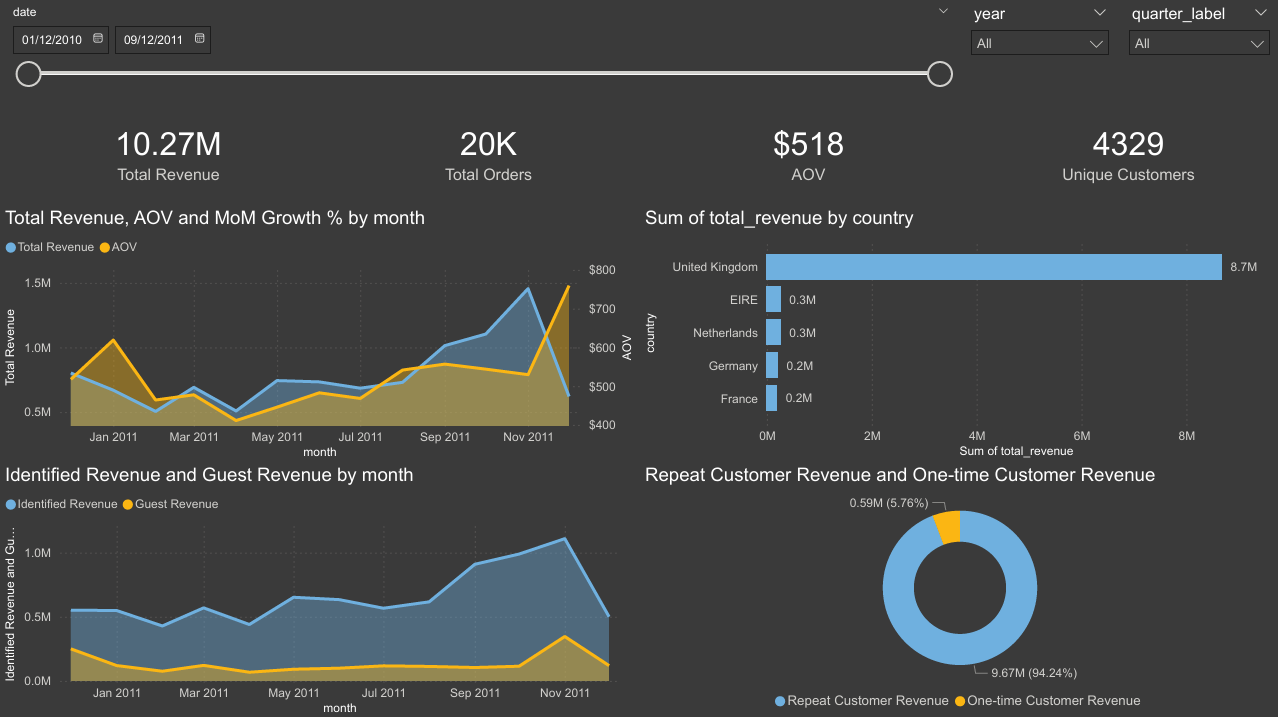

The page's visual inventory and layout, read from the dashboard file:
{"tool":"powerbi","page":{"name":"Executive Overview","canvas":[1280,720],"ordinal":0},"visuals":[{"type":"slicer","fields":{"Values":["online_retail dim_date.date"]},"box":[0,0,1008.6,113.8],"z":0},{"type":"slicer","fields":{"Values":["online_retail dim_date.quarter"]},"box":[1008.6,0,137.1,113.8],"z":1000},{"type":"slicer","fields":{"Values":["online_retail dim_date.year"]},"box":[1145.8,0,134.2,113.8],"z":2000},{"type":"lineChart","fields":{"Category":["online_retail dim_date.year_month"],"Y":["online_retail vw_dim_product.Total Revenue"],"Y2":["online_retail vw_dim_product.AOV"]},"box":[0,210.1,640,254.8],"z":3000},{"type":"clusteredBarChart","fields":{"Category":["online_retail vw_dim_geography.country"],"Y":["Sum(online_retail vw_fact_orders.revenue)"]},"box":[640,210.1,640,254.8],"z":4000},{"type":"lineChart","title":"Total Revenue by Month for identified and guest","fields":{"Category":["online_retail dim_date.year_month.Variation.Date Hierarchy.Month"],"Series":["online_retail vw_dim_customer.is_guest"],"Y":["Sum(online_retail vw_fact_orders.revenue)"]},"box":[0,464.9,640,254.8],"z":5000},{"type":"donutChart","title":"Total Revenue by customer type","fields":{"Category":["online_retail vw_dim_customer.customer_type"],"Y":["Sum(online_retail vw_fact_orders.revenue)"]},"box":[640,464.9,640,254.8],"z":6000},{"type":"card","title":"Total Revenue","fields":{"Values":["Sum(online_retail vw_fact_orders.revenue)"]},"box":[0,113.8,320,96.3],"z":7000},{"type":"card","title":"Total Orders","fields":{"Values":["Measures_.Total Orders"]},"box":[319.6,114,319.6,96.1],"z":8000},{"type":"card","title":"Average Order Value","fields":{"Values":["online_retail vw_dim_product.AOV"]},"box":[639.2,114,320.5,96.1],"z":9000},{"type":"card","title":"Unique Customers","fields":{"Values":["online_retail vw_dim_product.Unique Customers"]},"box":[959.7,114,320.5,96.1],"z":10000}]}

Visuals, with their boxes in screenshot pixels (x1, y1, x2, y2), scaled from the page's 1280x720 canvas onto the 1278x717 screenshot:
slicer - online_retail dim_date.date: crop(0, 0, 1007, 113)
slicer - online_retail dim_date.quarter: crop(1007, 0, 1144, 113)
slicer - online_retail dim_date.year: crop(1144, 0, 1277, 113)
lineChart - online_retail dim_date.year_month x online_retail vw_dim_product.Total Revenue: crop(0, 209, 639, 463)
clusteredBarChart - online_retail vw_dim_geography.country x Sum(online_retail vw_fact_orders.revenue): crop(639, 209, 1277, 463)
"Total Revenue by Month for identified and guest" lineChart: crop(0, 463, 639, 716)
"Total Revenue by customer type" donutChart: crop(639, 463, 1277, 716)
"Total Revenue" card: crop(0, 113, 320, 209)
"Total Orders" card: crop(319, 114, 638, 209)
"Average Order Value" card: crop(638, 114, 958, 209)
"Unique Customers" card: crop(958, 114, 1277, 209)
